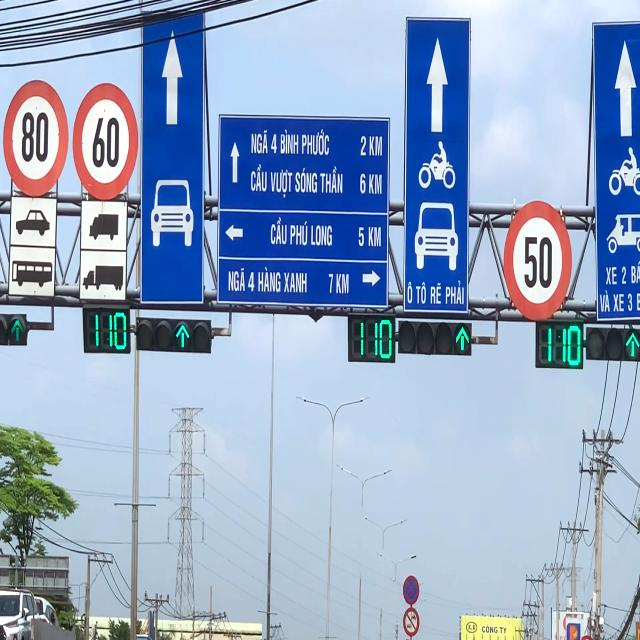P.127: (503, 199, 572, 321), (72, 82, 139, 201), (3, 79, 69, 198)
P.130: (402, 575, 420, 605)
